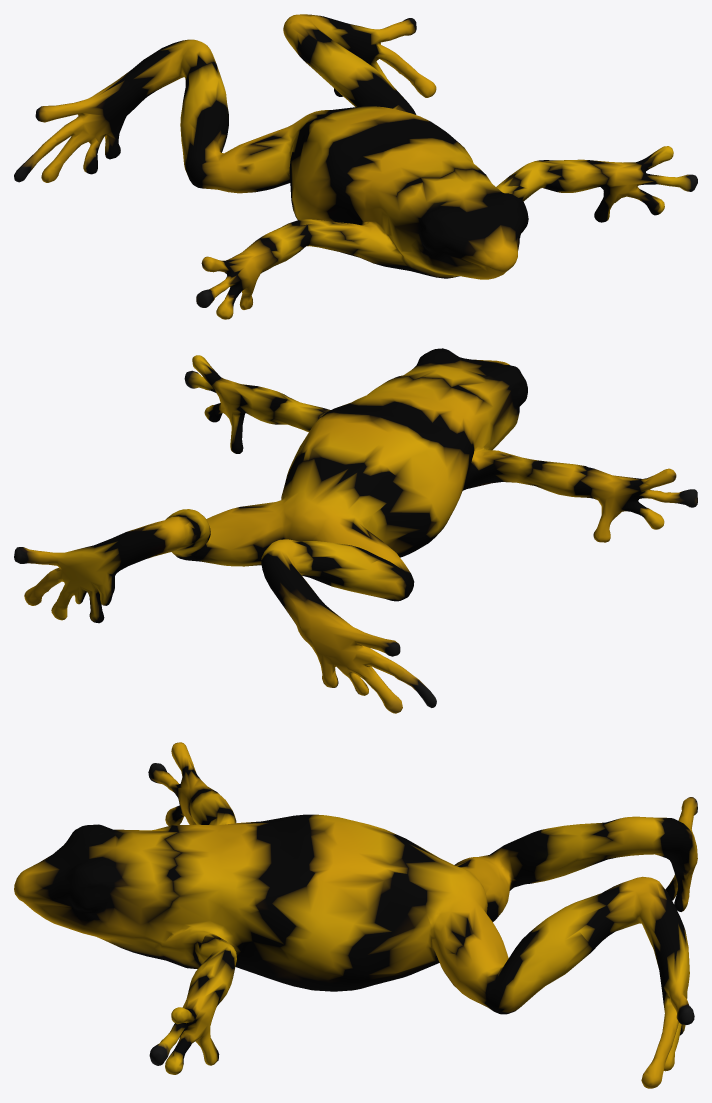
Rendered from leucomelas.swim.lo.glb.
The picture shows the model from 3 angles, top to bottom: view 1: azimuth 30°, elevation 25°; view 2: azimuth 150°, elevation 25°; view 3: azimuth 270°, elevation 25°; orthographic projection. The views are drawn at different scales.
Visible parts, largest first — view 1: leucomelas.swim; view 2: leucomelas.swim; view 3: leucomelas.swim.
Part boxes in pixels (x1,y1,x2,y2): leucomelas.swim: (14,14,697,319); leucomelas.swim: (14,348,697,713); leucomelas.swim: (14,742,697,1088).
Bounding box in the file's own units: 0.0655 × 0.0164 × 0.066.
